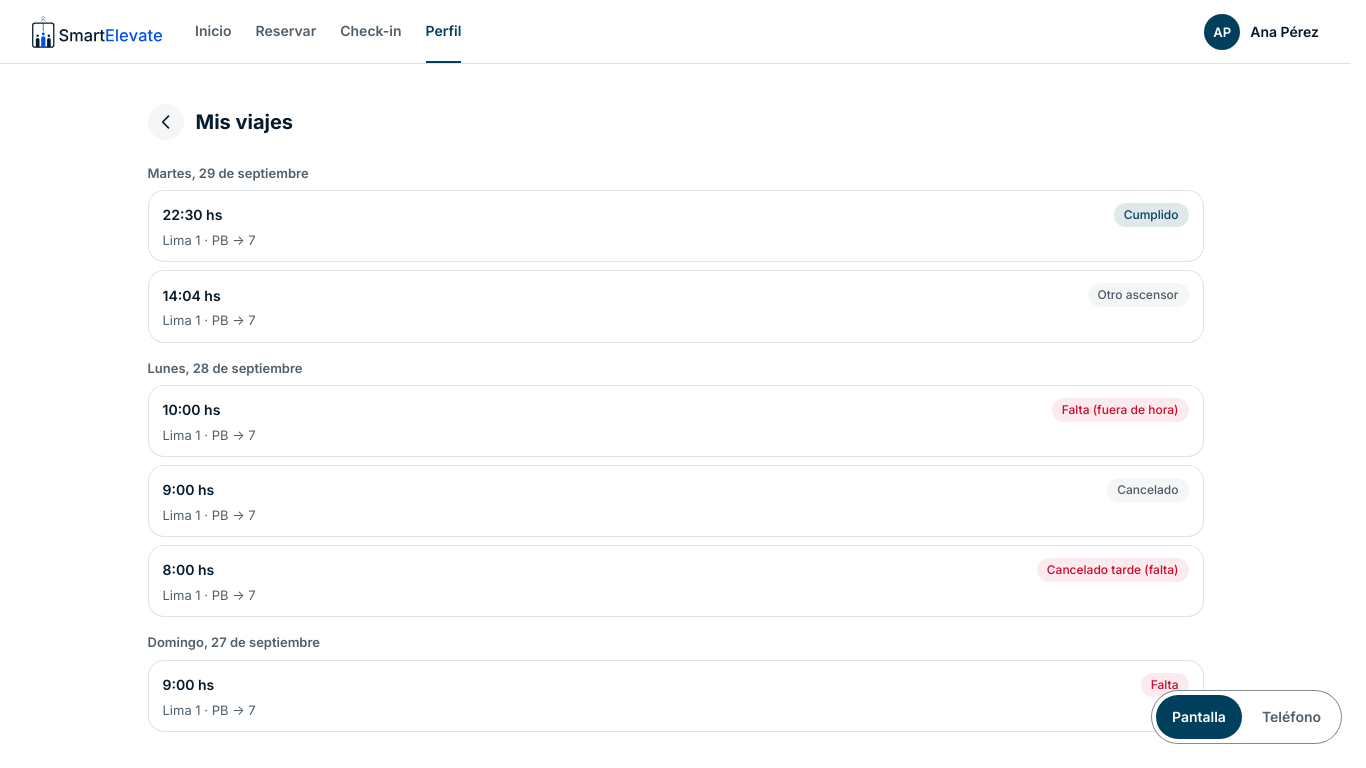
it: MyTripsPage › "Volver" lleva al perfil
The width and height of the screenshot is (1366, 768).
Expected: the heading "Mis viajes" is shown, top-left (196, 109), bottom-right (293, 135)
Click the button named "Volver": [166, 122] box top-left (144, 100), bottom-right (188, 144)
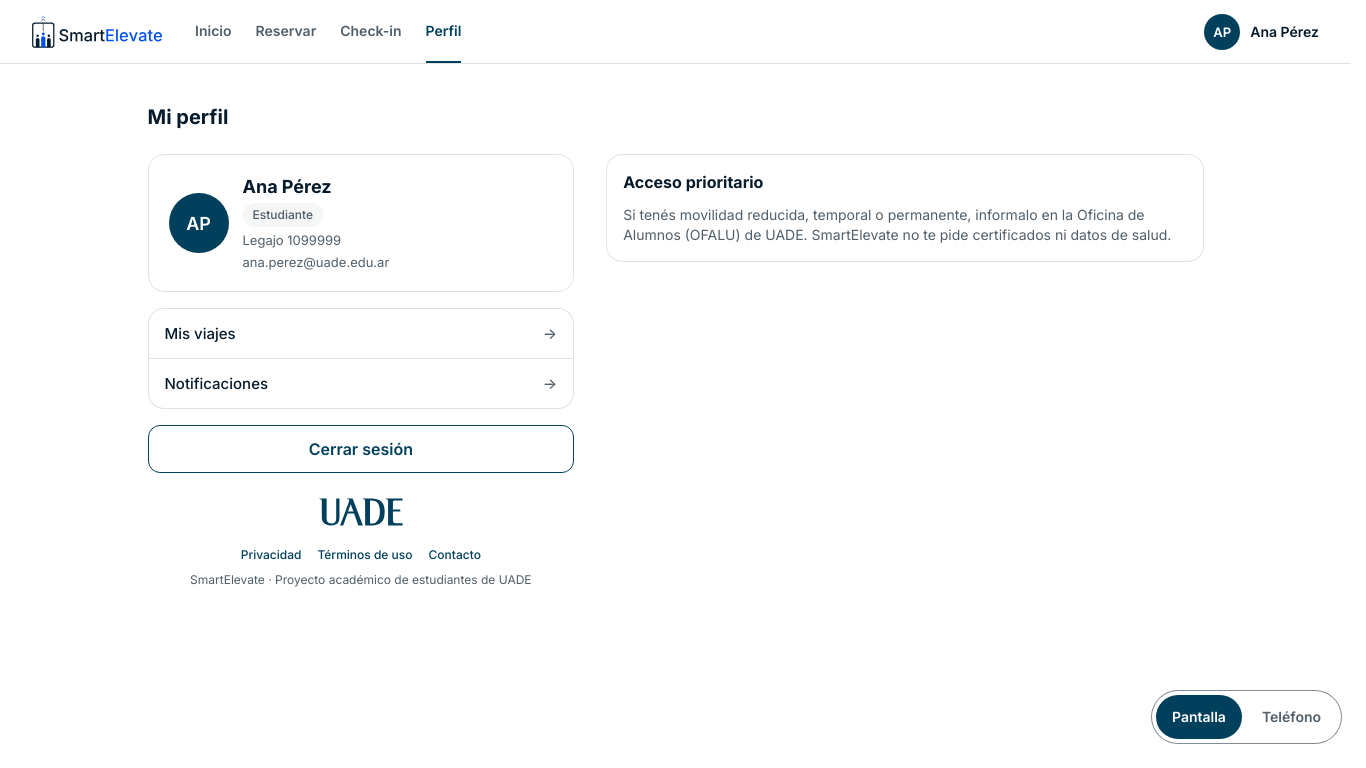
Expected: the heading "Mi perfil" is shown, top-left (148, 105), bottom-right (228, 129)
